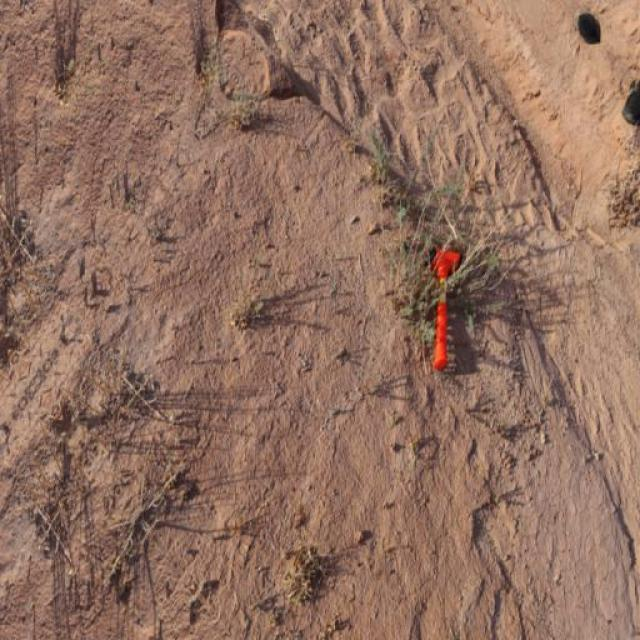mallet: (428, 246, 462, 372)
